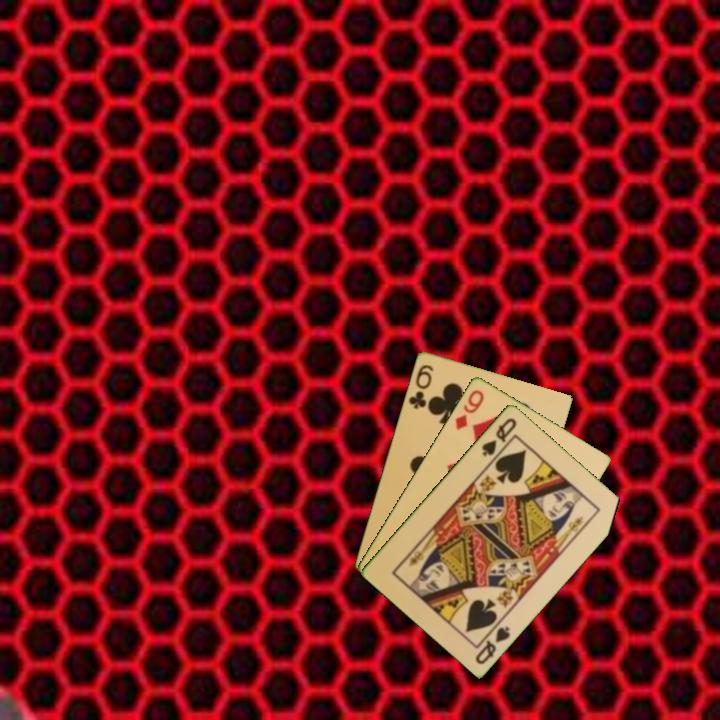6c: (405, 361, 437, 412)
9d: (451, 386, 487, 433)
Qs: (471, 616, 513, 667), (478, 414, 520, 459)
